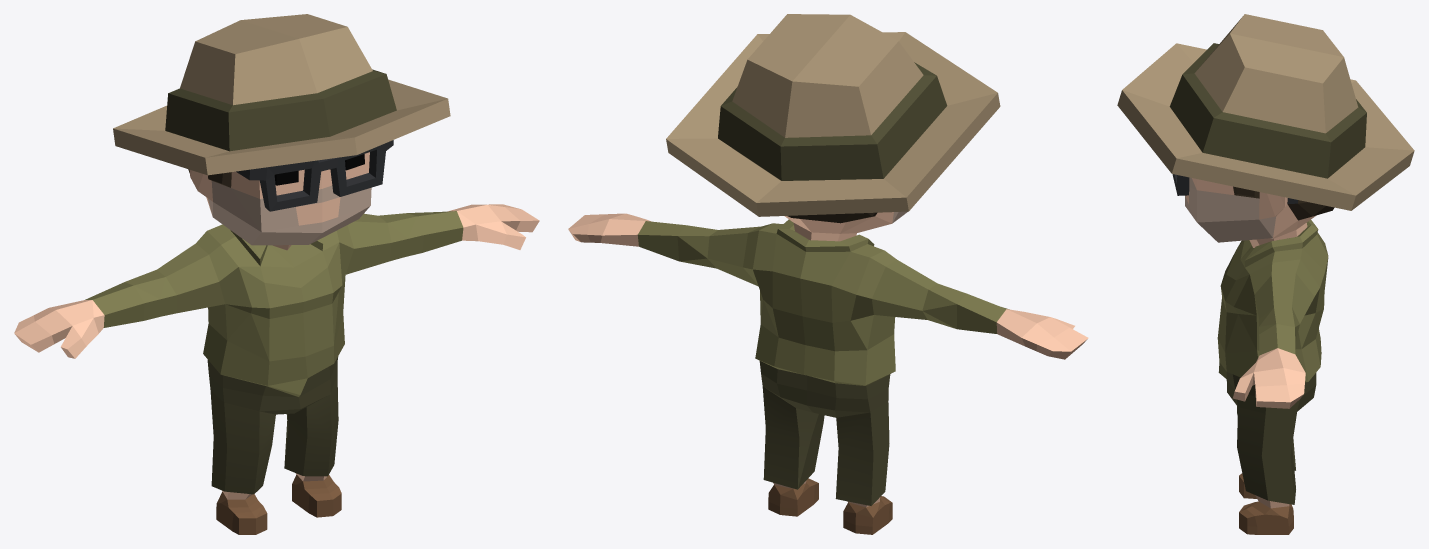
File: ParkRanger_male.fbx
The picture shows the model from 3 angles, left to right: view 1: azimuth 30°, elevation 25°; view 2: azimuth 150°, elevation 25°; view 3: azimuth 270°, elevation 25°; orthographic projection. The views are drawn at different scales.
Visible parts, largest first — view 1: ParkRanger_male; view 2: ParkRanger_male; view 3: ParkRanger_male.
Boxes of the visible parts, x1,y1,x2,y2 form: ParkRanger_male: (14,14,539,534); ParkRanger_male: (568,14,1088,534); ParkRanger_male: (1117,14,1414,534).
Bounding box in the file's own units: 2.13 × 1.96 × 1.11.
